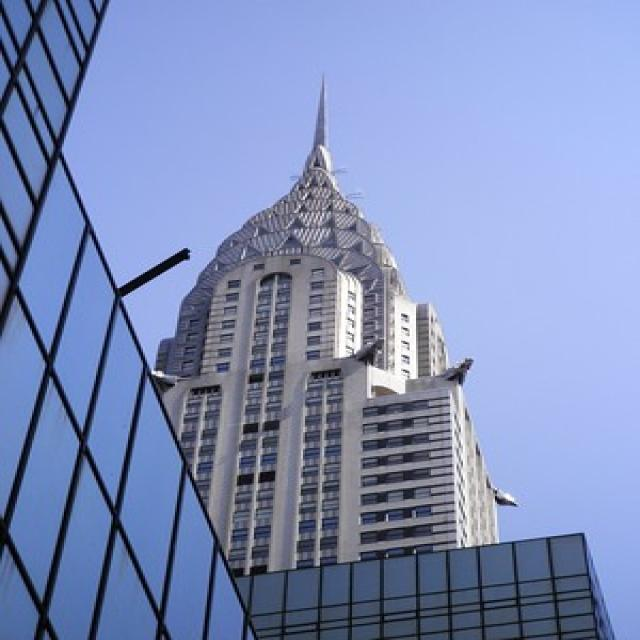building: (105, 168, 512, 581)
